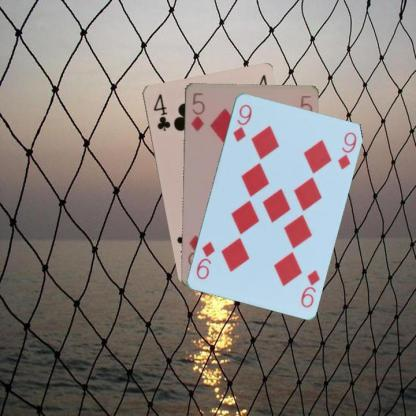4c: (150, 92, 172, 132)
5d: (188, 90, 206, 132)
9d: (230, 101, 253, 143), (298, 267, 321, 308)
